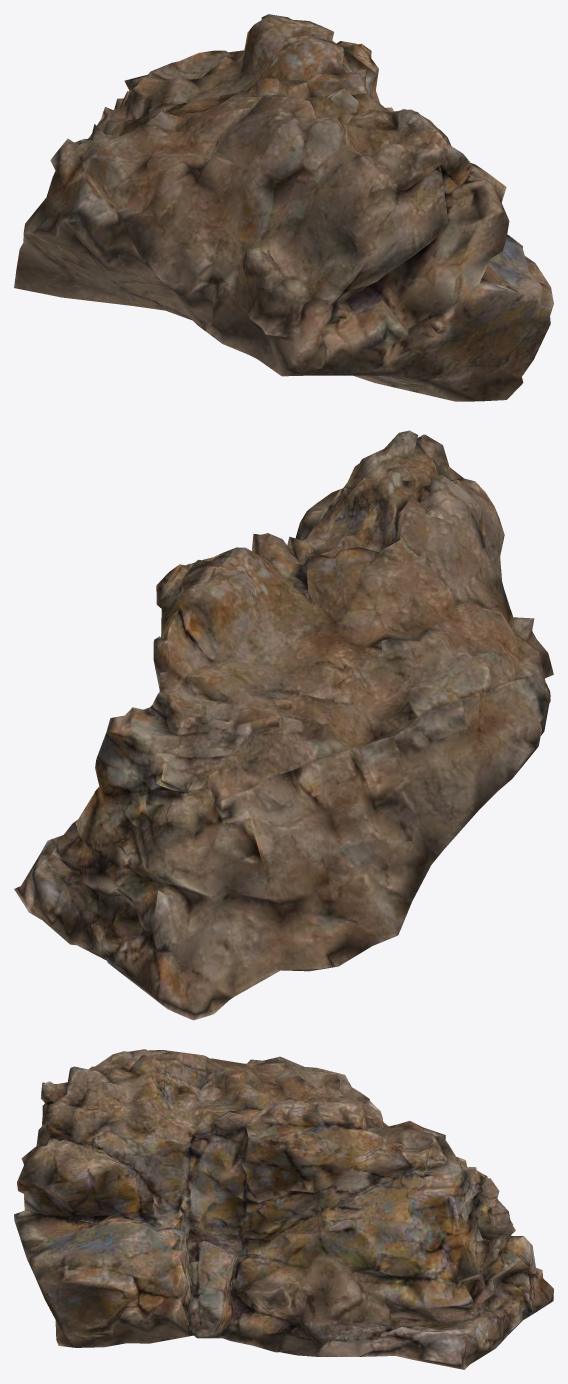
File: boulder_01_1k_lo.glb
The picture shows the model from 3 angles, top to bottom: view 1: azimuth 30°, elevation 25°; view 2: azimuth 150°, elevation 25°; view 3: azimuth 270°, elevation 25°; orthographic projection. The views are drawn at different scales.
Visible parts, largest first — view 1: boulder_01; view 2: boulder_01; view 3: boulder_01.
Part boxes in pixels (<box>): boulder_01: <box>14,14,553,401</box>; boulder_01: <box>14,430,553,1020</box>; boulder_01: <box>14,1049,553,1369</box>.
Size of the model in its own units: 1.27 by 1 by 1.82.
1 material, 1 textured.
